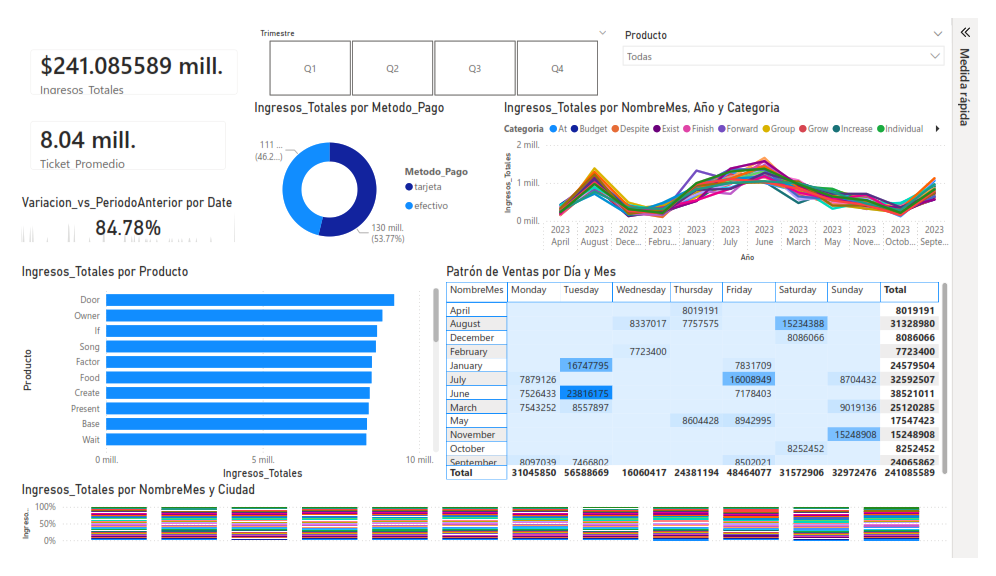

The page's visual inventory and layout, read from the dashboard file:
{"tool":"powerbi","page":{"name":"Página 1","canvas":[1280,720],"ordinal":0},"visuals":[{"type":"cardVisual","fields":{"Data":["Ventas.Ingresos_Totales"]},"box":[0,15.6,318.9,96.7],"z":0},{"type":"kpi","fields":{"Indicator":["Ventas.Variacion_vs_PeriodoAnterior"],"TrendLine":["Calendario.Date"]},"box":[0,233.3,302.2,68.9],"z":1000},{"type":"cardVisual","fields":{"Data":["Ventas.Ticket_Promedio"]},"box":[0,114.4,302.2,101.1],"z":2000},{"type":"lineChart","fields":{"Category":["Calendario.NombreMes","Calendario.Año"],"Y":["Ventas.Ingresos_Totales"],"Series":["Ventas.Categoria"]},"box":[661.1,103.3,618.9,224.4],"z":3000},{"type":"barChart","fields":{"Category":["Ventas.Producto"],"Y":["Ventas.Ingresos_Totales"]},"box":[0,327.8,582.2,298.9],"z":4000},{"type":"pivotTable","title":"Patrón de Ventas por Día y Mes","fields":{"Rows":["Calendario.NombreMes"],"Values":["Ventas.Ingresos_Totales"],"Columns":["Calendario.DiaSemana"]},"box":[582.2,327.8,697.8,298.9],"z":5000},{"type":"donutChart","fields":{"Category":["Ventas.Metodo_Pago"],"Y":["Ventas.Ingresos_Totales"]},"box":[318.9,103.3,321.1,224.4],"z":6000},{"type":"hundredPercentStackedColumnChart","fields":{"Category":["Calendario.NombreMes"],"Y":["Ventas.Ingresos_Totales"],"Series":["Ventas.Ciudad"]},"box":[0,626.7,1280,93.3],"z":7000},{"type":"slicer","fields":{"Values":["Calendario.Trimestre"]},"box":[318.9,0,500,103.3],"z":8000},{"type":"slicer","fields":{"Values":["Ventas.Producto"]},"box":[818.9,0,461.1,103.3],"z":9000}]}

Visuals, with their boxes on the page's 1280x720 design canvas (x1, y1, x2, y2). These are canvas units, not pixel positions in the 996x576 screenshot, which may show the page scaled, cropped or inside an application window:
cardVisual - Ventas.Ingresos_Totales: {"x1": 0, "y1": 16, "x2": 319, "y2": 112}
kpi - Ventas.Variacion_vs_PeriodoAnterior x Calendario.Date: {"x1": 0, "y1": 233, "x2": 302, "y2": 302}
cardVisual - Ventas.Ticket_Promedio: {"x1": 0, "y1": 114, "x2": 302, "y2": 216}
lineChart - Calendario.NombreMes x Calendario.Año: {"x1": 661, "y1": 103, "x2": 1280, "y2": 328}
barChart - Ventas.Producto x Ventas.Ingresos_Totales: {"x1": 0, "y1": 328, "x2": 582, "y2": 627}
"Patrón de Ventas por Día y Mes" pivotTable: {"x1": 582, "y1": 328, "x2": 1280, "y2": 627}
donutChart - Ventas.Metodo_Pago x Ventas.Ingresos_Totales: {"x1": 319, "y1": 103, "x2": 640, "y2": 328}
hundredPercentStackedColumnChart - Calendario.NombreMes x Ventas.Ingresos_Totales: {"x1": 0, "y1": 627, "x2": 1280, "y2": 720}
slicer - Calendario.Trimestre: {"x1": 319, "y1": 0, "x2": 819, "y2": 103}
slicer - Ventas.Producto: {"x1": 819, "y1": 0, "x2": 1280, "y2": 103}
